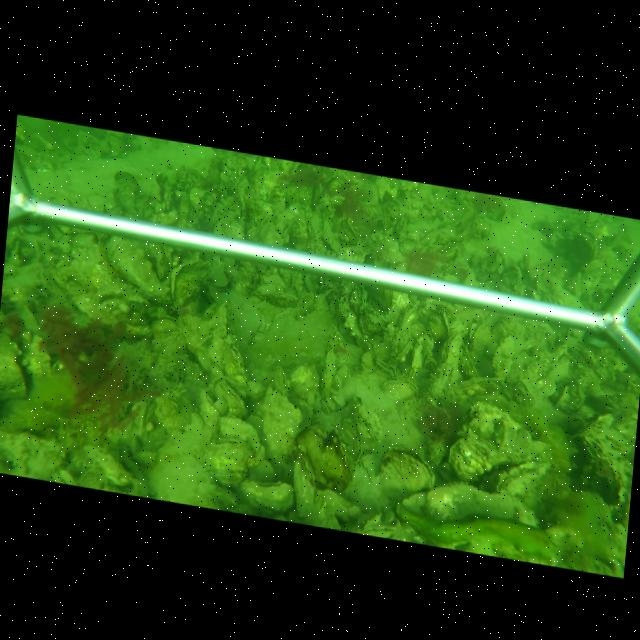Oyster-Closed: (421, 480, 538, 526), (570, 432, 630, 511), (104, 237, 166, 297), (495, 458, 551, 496), (168, 258, 210, 308), (200, 436, 253, 473), (239, 479, 294, 514), (293, 452, 319, 518), (218, 413, 261, 450), (335, 417, 360, 480), (491, 333, 523, 376), (211, 379, 247, 414), (197, 387, 222, 429), (255, 212, 285, 245), (441, 332, 464, 366), (320, 348, 336, 395), (382, 379, 419, 399), (468, 319, 488, 353), (268, 366, 290, 392), (513, 379, 534, 404), (268, 292, 296, 304), (303, 273, 318, 292), (319, 396, 333, 416)
Oyster-Indeterminate: (179, 302, 239, 379), (253, 388, 308, 469), (447, 434, 513, 480)
Oyster-Open: (380, 443, 438, 489), (151, 313, 180, 338), (373, 357, 395, 380)
